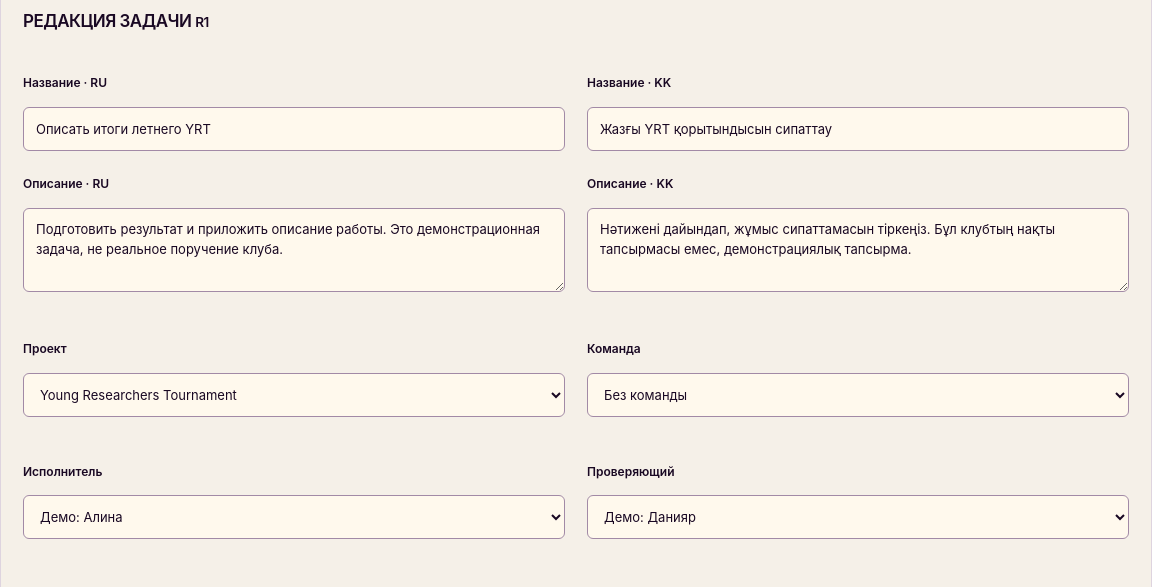
Test: workspace UI failures and persistence boundaries › keeps edited task input after a failed save
Replace the text in the field labelled "Название · RU" with "Изменённый демо заголовок" at coordinates (294, 129), box [23,107,565,151]
(page scrolled)
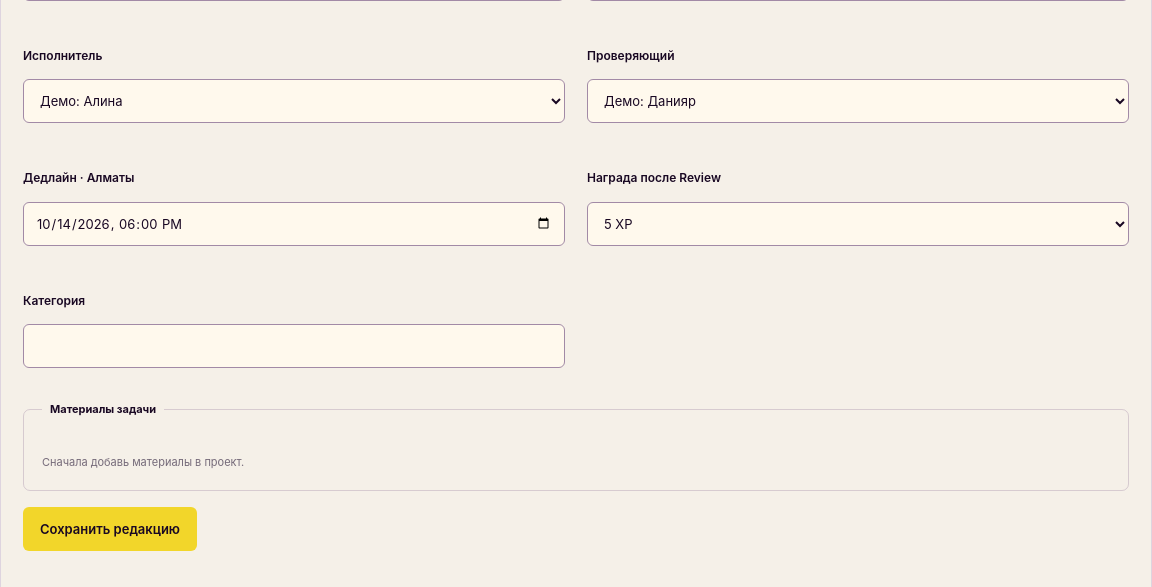
Click the button "Сохранить редакцию" at coordinates (110, 529), box [23,507,197,551]
(page scrolled)
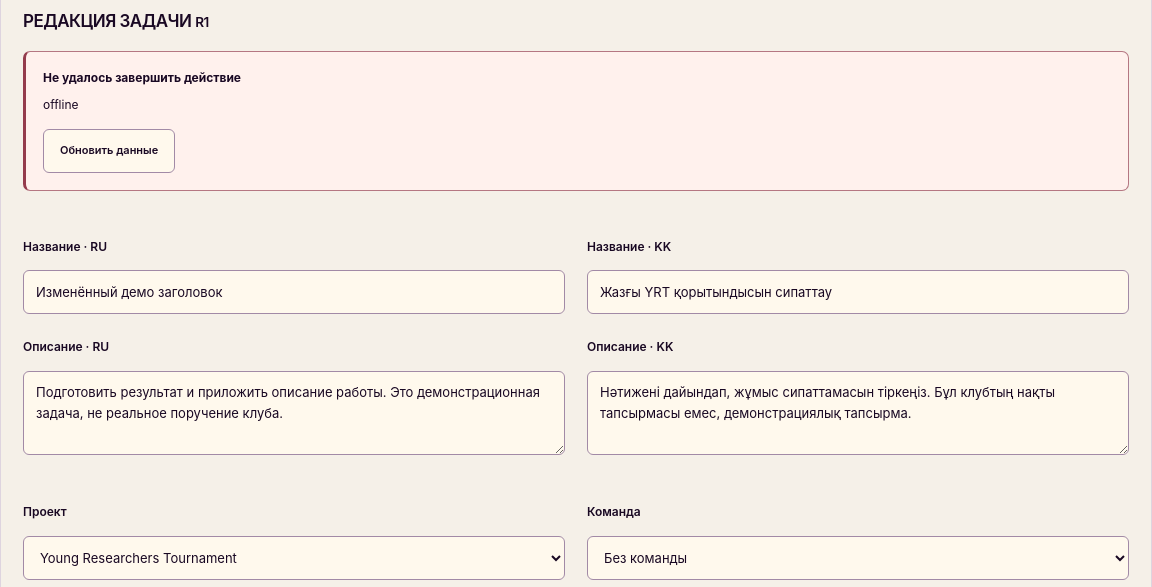
Now the text "offline" is shown, box [43,97,78,112]
